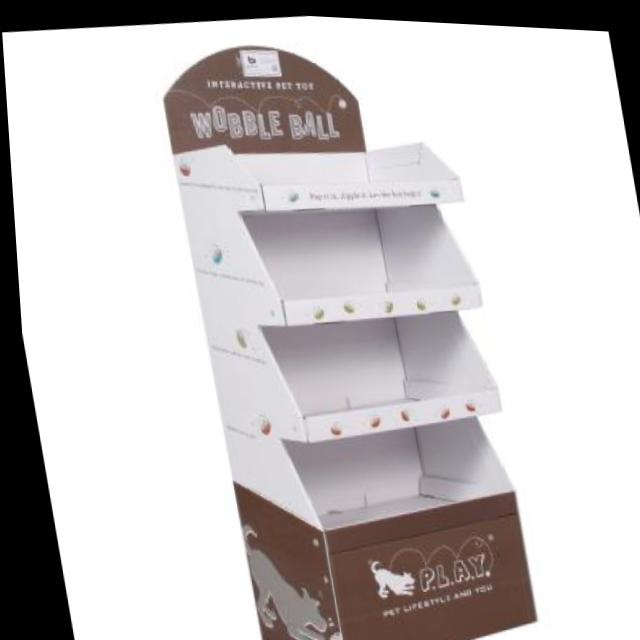box: (138, 7, 560, 640)
